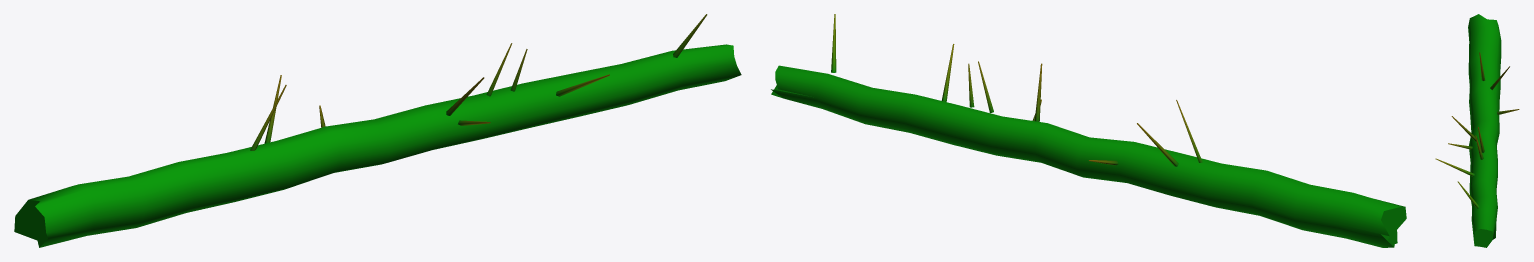
The model's file is log_a.glb.
3 views of the same model, side by side, from view 1: azimuth 30°, elevation 25°; view 2: azimuth 150°, elevation 25°; view 3: azimuth 270°, elevation 25° (orthographic). The views are drawn at different scales.
Visible parts, largest first — view 1: LOD0; view 2: LOD0; view 3: LOD0.
Boxes of the visible parts, x1=… form: LOD0: x1=14, y1=14, x2=741, y2=247; LOD0: x1=771, y1=14, x2=1406, y2=247; LOD0: x1=1435, y1=14, x2=1519, y2=247.
Size of what is drawn, in the model's own units: 8.23 by 1.18 by 1.38.
